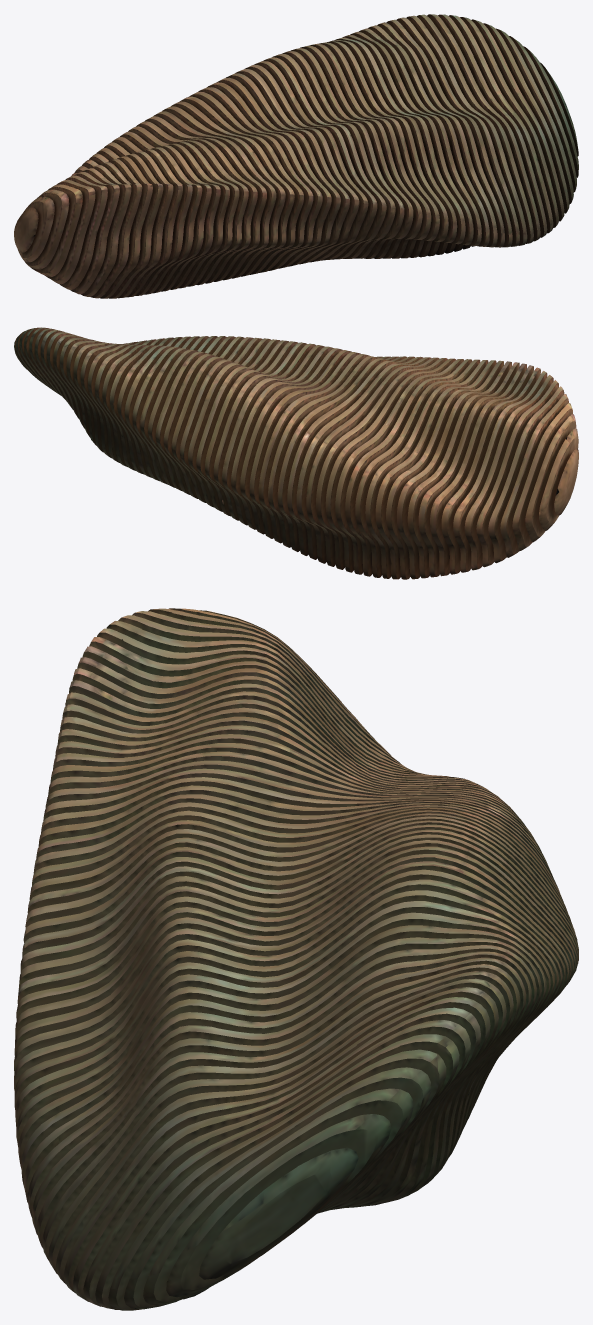
Rendered from new_bench.glb.
The picture shows the model from 3 angles, top to bottom: view 1: azimuth 30°, elevation 25°; view 2: azimuth 150°, elevation 25°; view 3: azimuth 270°, elevation 25°; orthographic projection. The views are drawn at different scales.
Parts seen in each view (by area): view 1: Plane.002_Material_0; view 2: Plane.002_Material_0; view 3: Plane.002_Material_0.
Boxes of the visible parts, x1,y1,x2,y2 form: Plane.002_Material_0: (14, 14, 578, 298); Plane.002_Material_0: (14, 327, 578, 579); Plane.002_Material_0: (14, 608, 578, 1310).
Bounding box in the file's own units: 7.5 × 2.32 × 3.47.
Materials: 1 (1 with a texture image).
